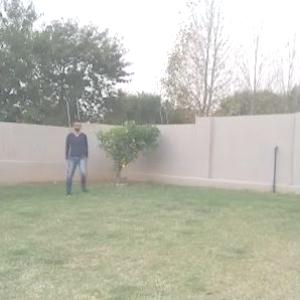follow: (68, 117, 88, 194)
